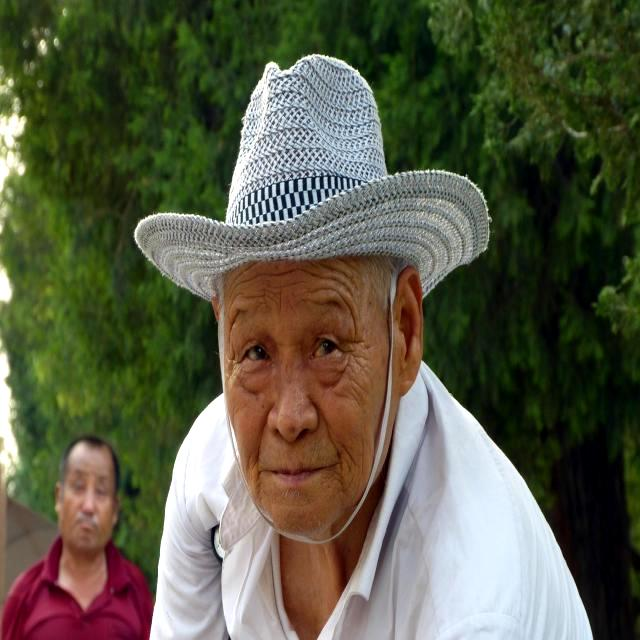no_hard_hat: (135, 55, 489, 299)
person: (150, 255, 592, 639)
